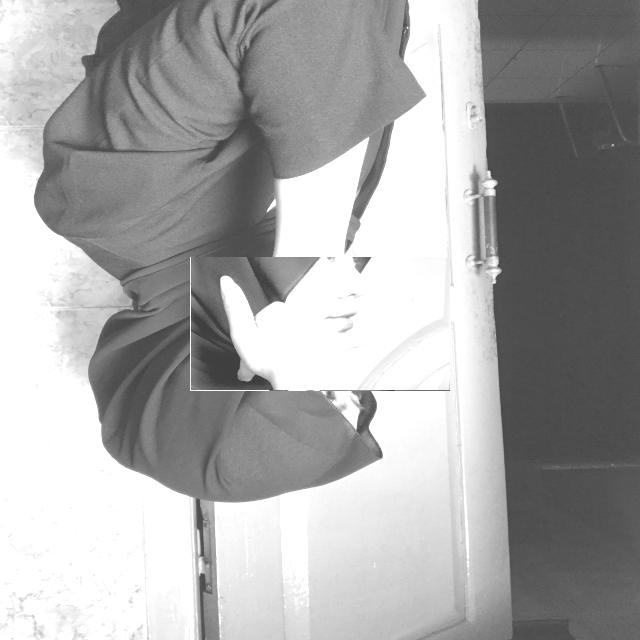telpon: (190, 257, 450, 391)
